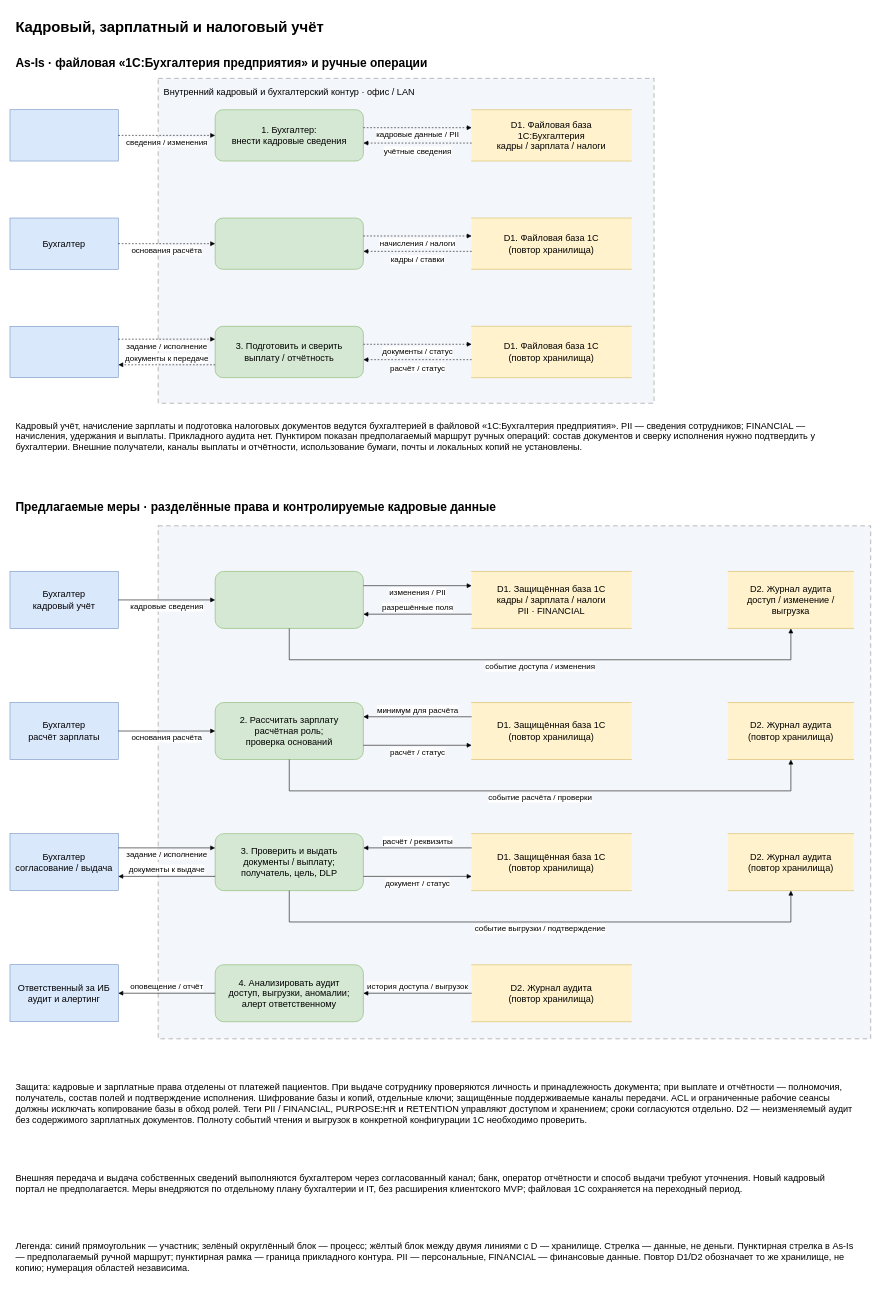
Some shapes in this 881 by 1305 pixel diagram are drawn without their labels. The shapes that lost their labels are listed below. From the top down, each one's box as (x1, y1, x2, y2) in pixels, then its label:
(9, 109, 118, 161): Сотрудник
(215, 217, 363, 269): 2. Рассчитать зарплату и налоги
(9, 326, 118, 378): Бухгалтер (повтор участника)
(215, 571, 363, 628): 1. Вести кадры роль и цель HR; минимизация PII
(158, 525, 871, 1039): Внутренний кадровый контур · RBAC/ABAC, минимизация и аудит
